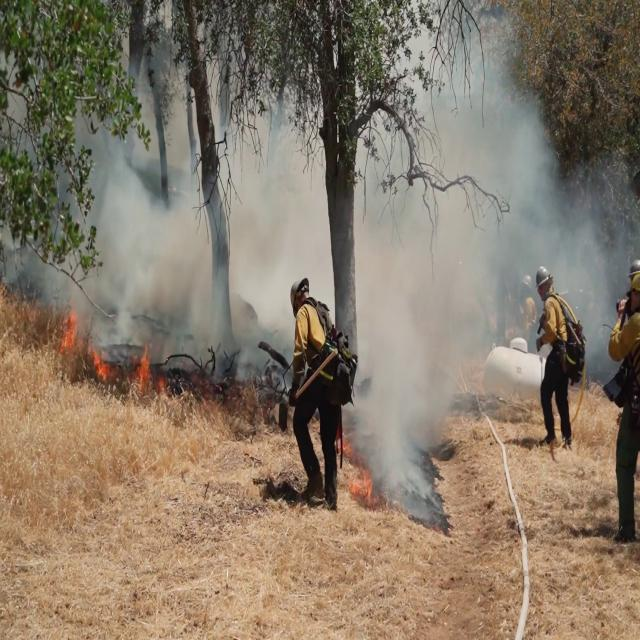Fire: (127, 344, 161, 392), (59, 305, 85, 357), (90, 343, 112, 379)
Smoke: (352, 12, 608, 504), (74, 58, 314, 332)
